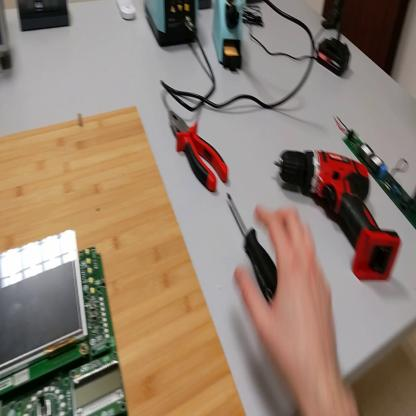electric screwdriver: (276, 145, 403, 286)
electric screwdriver battery: (319, 37, 353, 80)
hand: (234, 204, 343, 392)
high voltage board: (340, 115, 416, 230)
low voltage board: (1, 228, 128, 415)
oscilloscope: (2, 3, 9, 65)
pliers: (169, 110, 229, 194)
screwdriver-: (228, 190, 279, 305)
socket: (199, 3, 213, 10)
welder base: (212, 3, 247, 75)
welder probe tip: (234, 1, 263, 19)
welder station: (145, 1, 199, 49)
working area: (1, 108, 246, 415)
